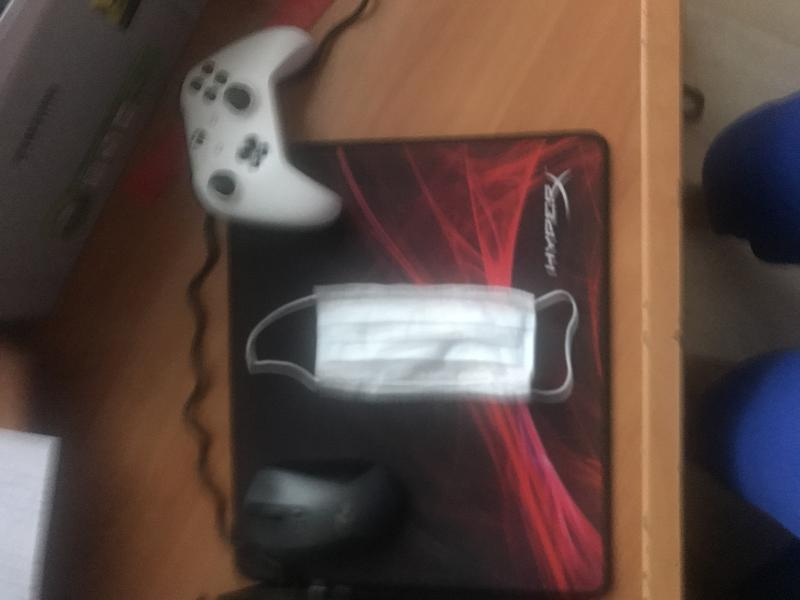medical_mask: (245, 287, 578, 398)
